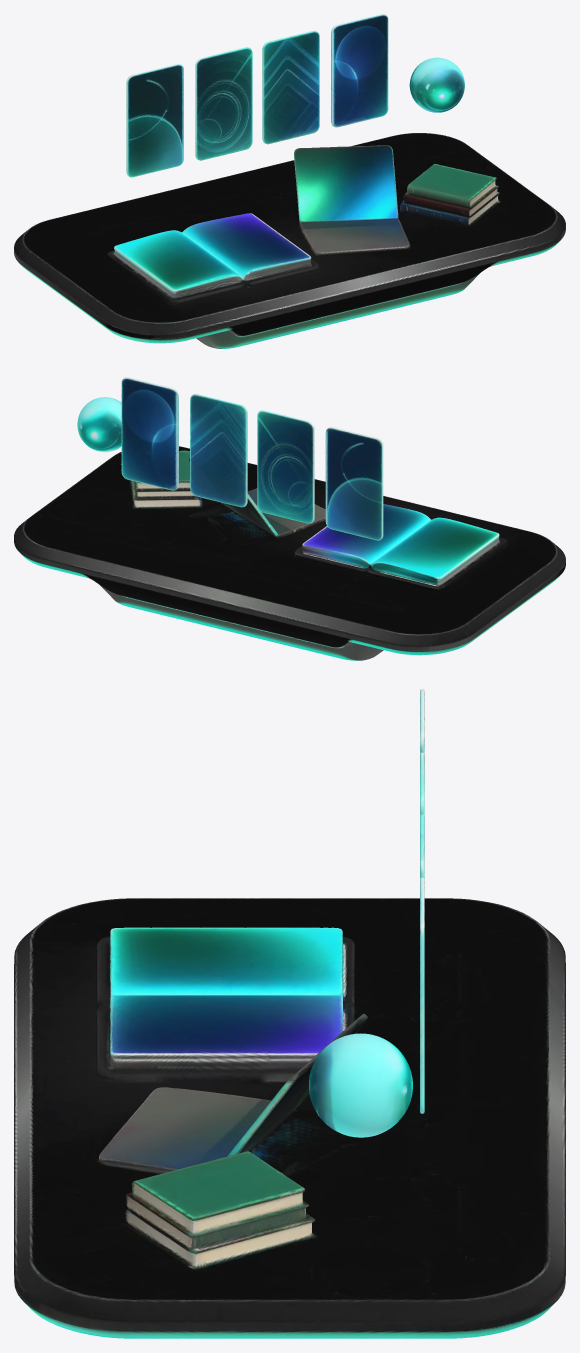
File: studynest-campus-library.web.glb
3 views of the same model, one above another, from view 1: azimuth 30°, elevation 25°; view 2: azimuth 150°, elevation 25°; view 3: azimuth 270°, elevation 25° (orthographic). The views are drawn at different scales.
Bounding box in the file's own units: 1.9 × 0.8423 × 1.06.
Materials: 1 (1 with a texture image).
